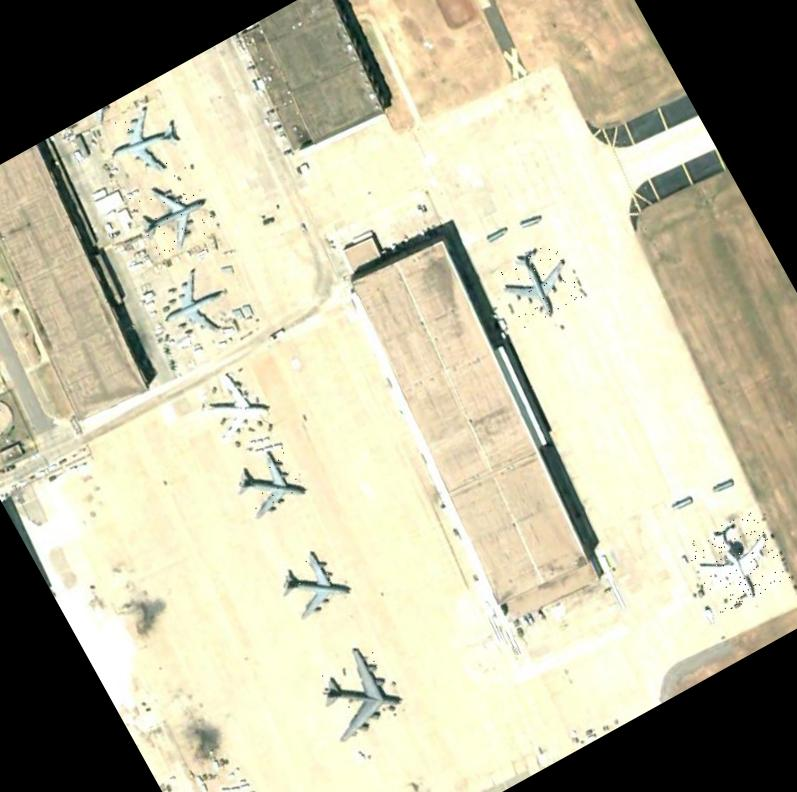A14: (490, 235, 583, 329), (99, 96, 193, 188), (128, 165, 220, 258), (228, 442, 312, 526), (271, 544, 354, 624)
A7: (683, 508, 790, 615)
A8: (303, 637, 410, 746)
